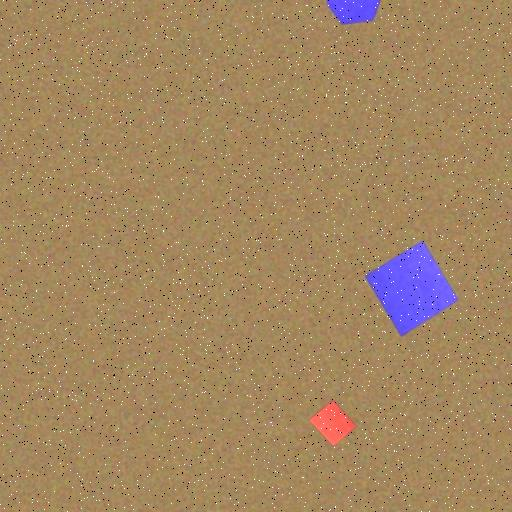BLUE_SQUARE: (364, 240, 459, 337)
RED_SQUARE: (308, 399, 358, 447)
